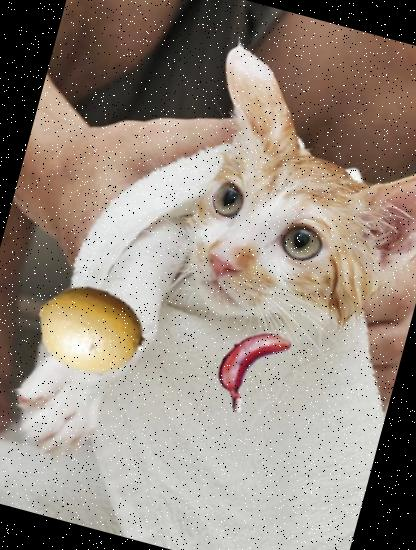Banana: (196, 310, 307, 422)
Lemon: (25, 264, 158, 397)
